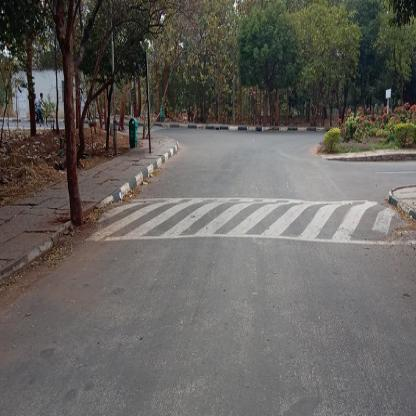speed-bumps: (82, 195, 415, 256)
